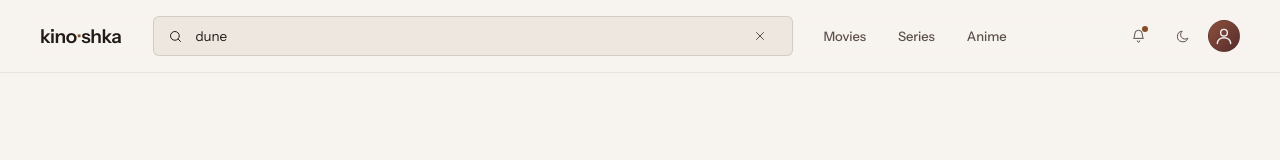
Test: Header (variant="search") › кнопка × при непустом q сбрасывает ?q немедленно (без ожидания дебаунса)
Click the button named "Clear search".
click(760, 36)  # box 742,18 -> 778,54
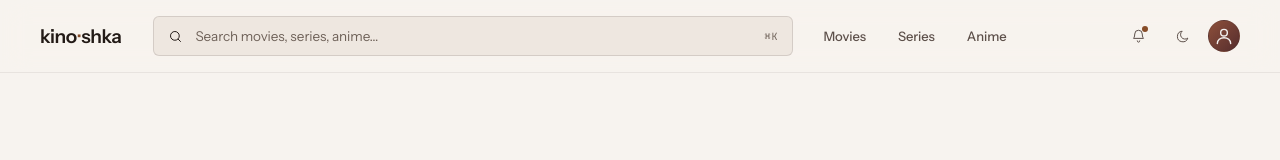
expect the field with placeholder "Search movies, series, anime…" is empty: met, box 193,27 -> 754,45
